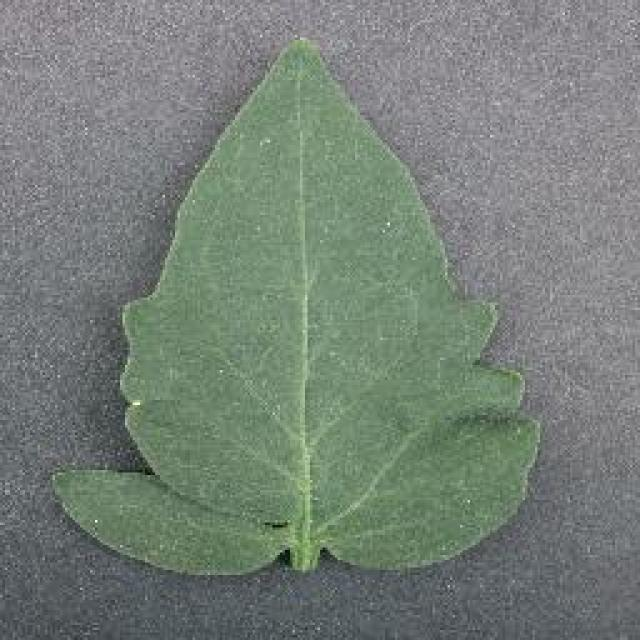healthy: (49, 39, 550, 577)
